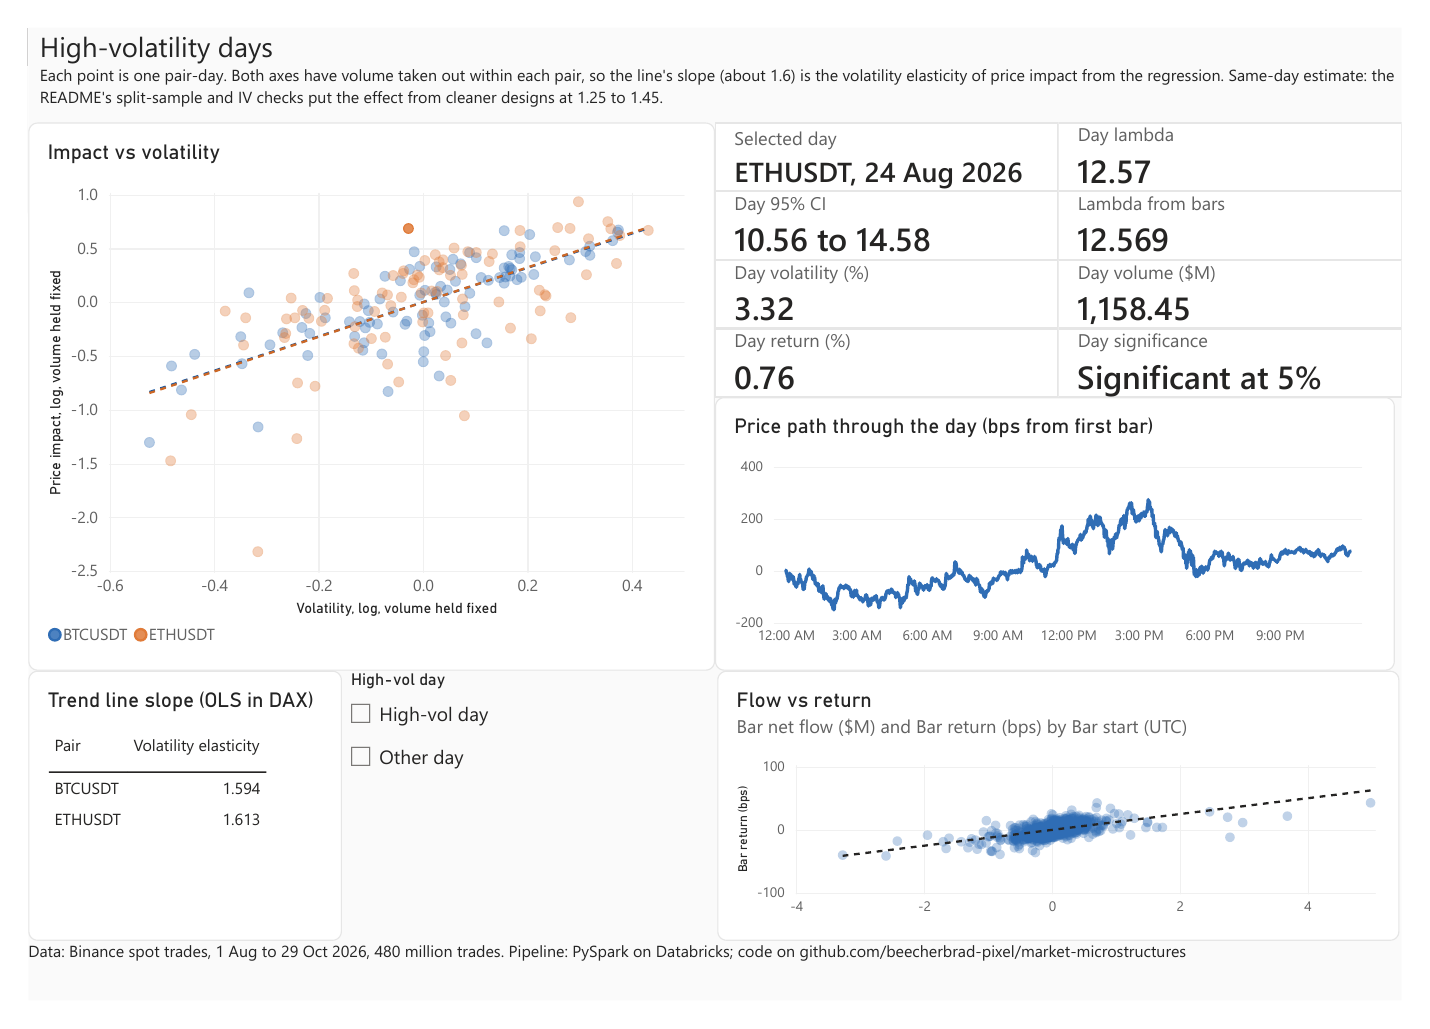

This screenshot's page, from the dashboard's own definition file:
{"tool":"powerbi","page":{"name":"High-volatility days","canvas":[1200,850],"ordinal":1},"visuals":[{"type":"textbox","box":[10.5,0,1189.2,82.7],"z":0},{"type":"scatterChart","title":"Impact vs volatility","fields":{"Category":["Daily.DayKey"],"Series":["Pair.Pair"],"X":["Sum(Daily.Log vol, volume-adjusted)"],"Y":["Sum(Daily.Log lambda, volume-adjusted)"]},"box":[0,82.7,599.8,479.4],"z":1},{"type":"tableEx","title":"Trend line slope (OLS in DAX)","fields":{"Values":["Pair.Pair","Daily.Volatility elasticity"]},"box":[0,562.1,274.3,235.5],"z":2},{"type":"slicer","fields":{"Values":["Daily.High-vol day"]},"box":[274.3,562.1,325.6,235.5],"z":3},{"type":"cardVisual","fields":{"Data":["Daily.Selected day","Daily.Day lambda","Daily.Day 95% CI","Bars.Lambda from bars","Daily.Day volatility (%)","Daily.Day volume ($M)","Daily.Day return (%)","Daily.Day significance"]},"box":[599.8,82.7,599.8,240.8],"z":4},{"type":"lineChart","title":"Price path through the day (bps from first bar)","fields":{"Category":["Bars.Bar start (UTC)"],"Y":["Bars.Price path (bps)"]},"box":[599.8,323.5,594.6,238.7],"z":5},{"type":"scatterChart","title":"Flow vs return","fields":{"Category":["Bars.Bar start (UTC)"],"X":["Bars.Bar net flow ($M)"],"Y":["Bars.Bar return (bps)"]},"box":[601.9,562.1,595.6,235.5],"z":6},{"type":"textbox","box":[0,797.7,1199.6,53.4],"z":7}]}

Visuals, with their boxes in screenshot pixels (x1, y1, x2, y2), scaled from the page's 1200x850 canvas onto the 1430x1029 screenshot:
textbox: select_region(13, 0, 1429, 100)
"Impact vs volatility" scatterChart: select_region(0, 100, 715, 680)
"Trend line slope (OLS in DAX)" tableEx: select_region(0, 680, 327, 966)
slicer - Daily.High-vol day: select_region(327, 680, 715, 966)
cardVisual - Daily.Selected day x Daily.Day lambda: select_region(715, 100, 1429, 392)
"Price path through the day (bps from first bar)" lineChart: select_region(715, 392, 1423, 681)
"Flow vs return" scatterChart: select_region(717, 680, 1427, 966)
textbox: select_region(0, 966, 1429, 1028)
